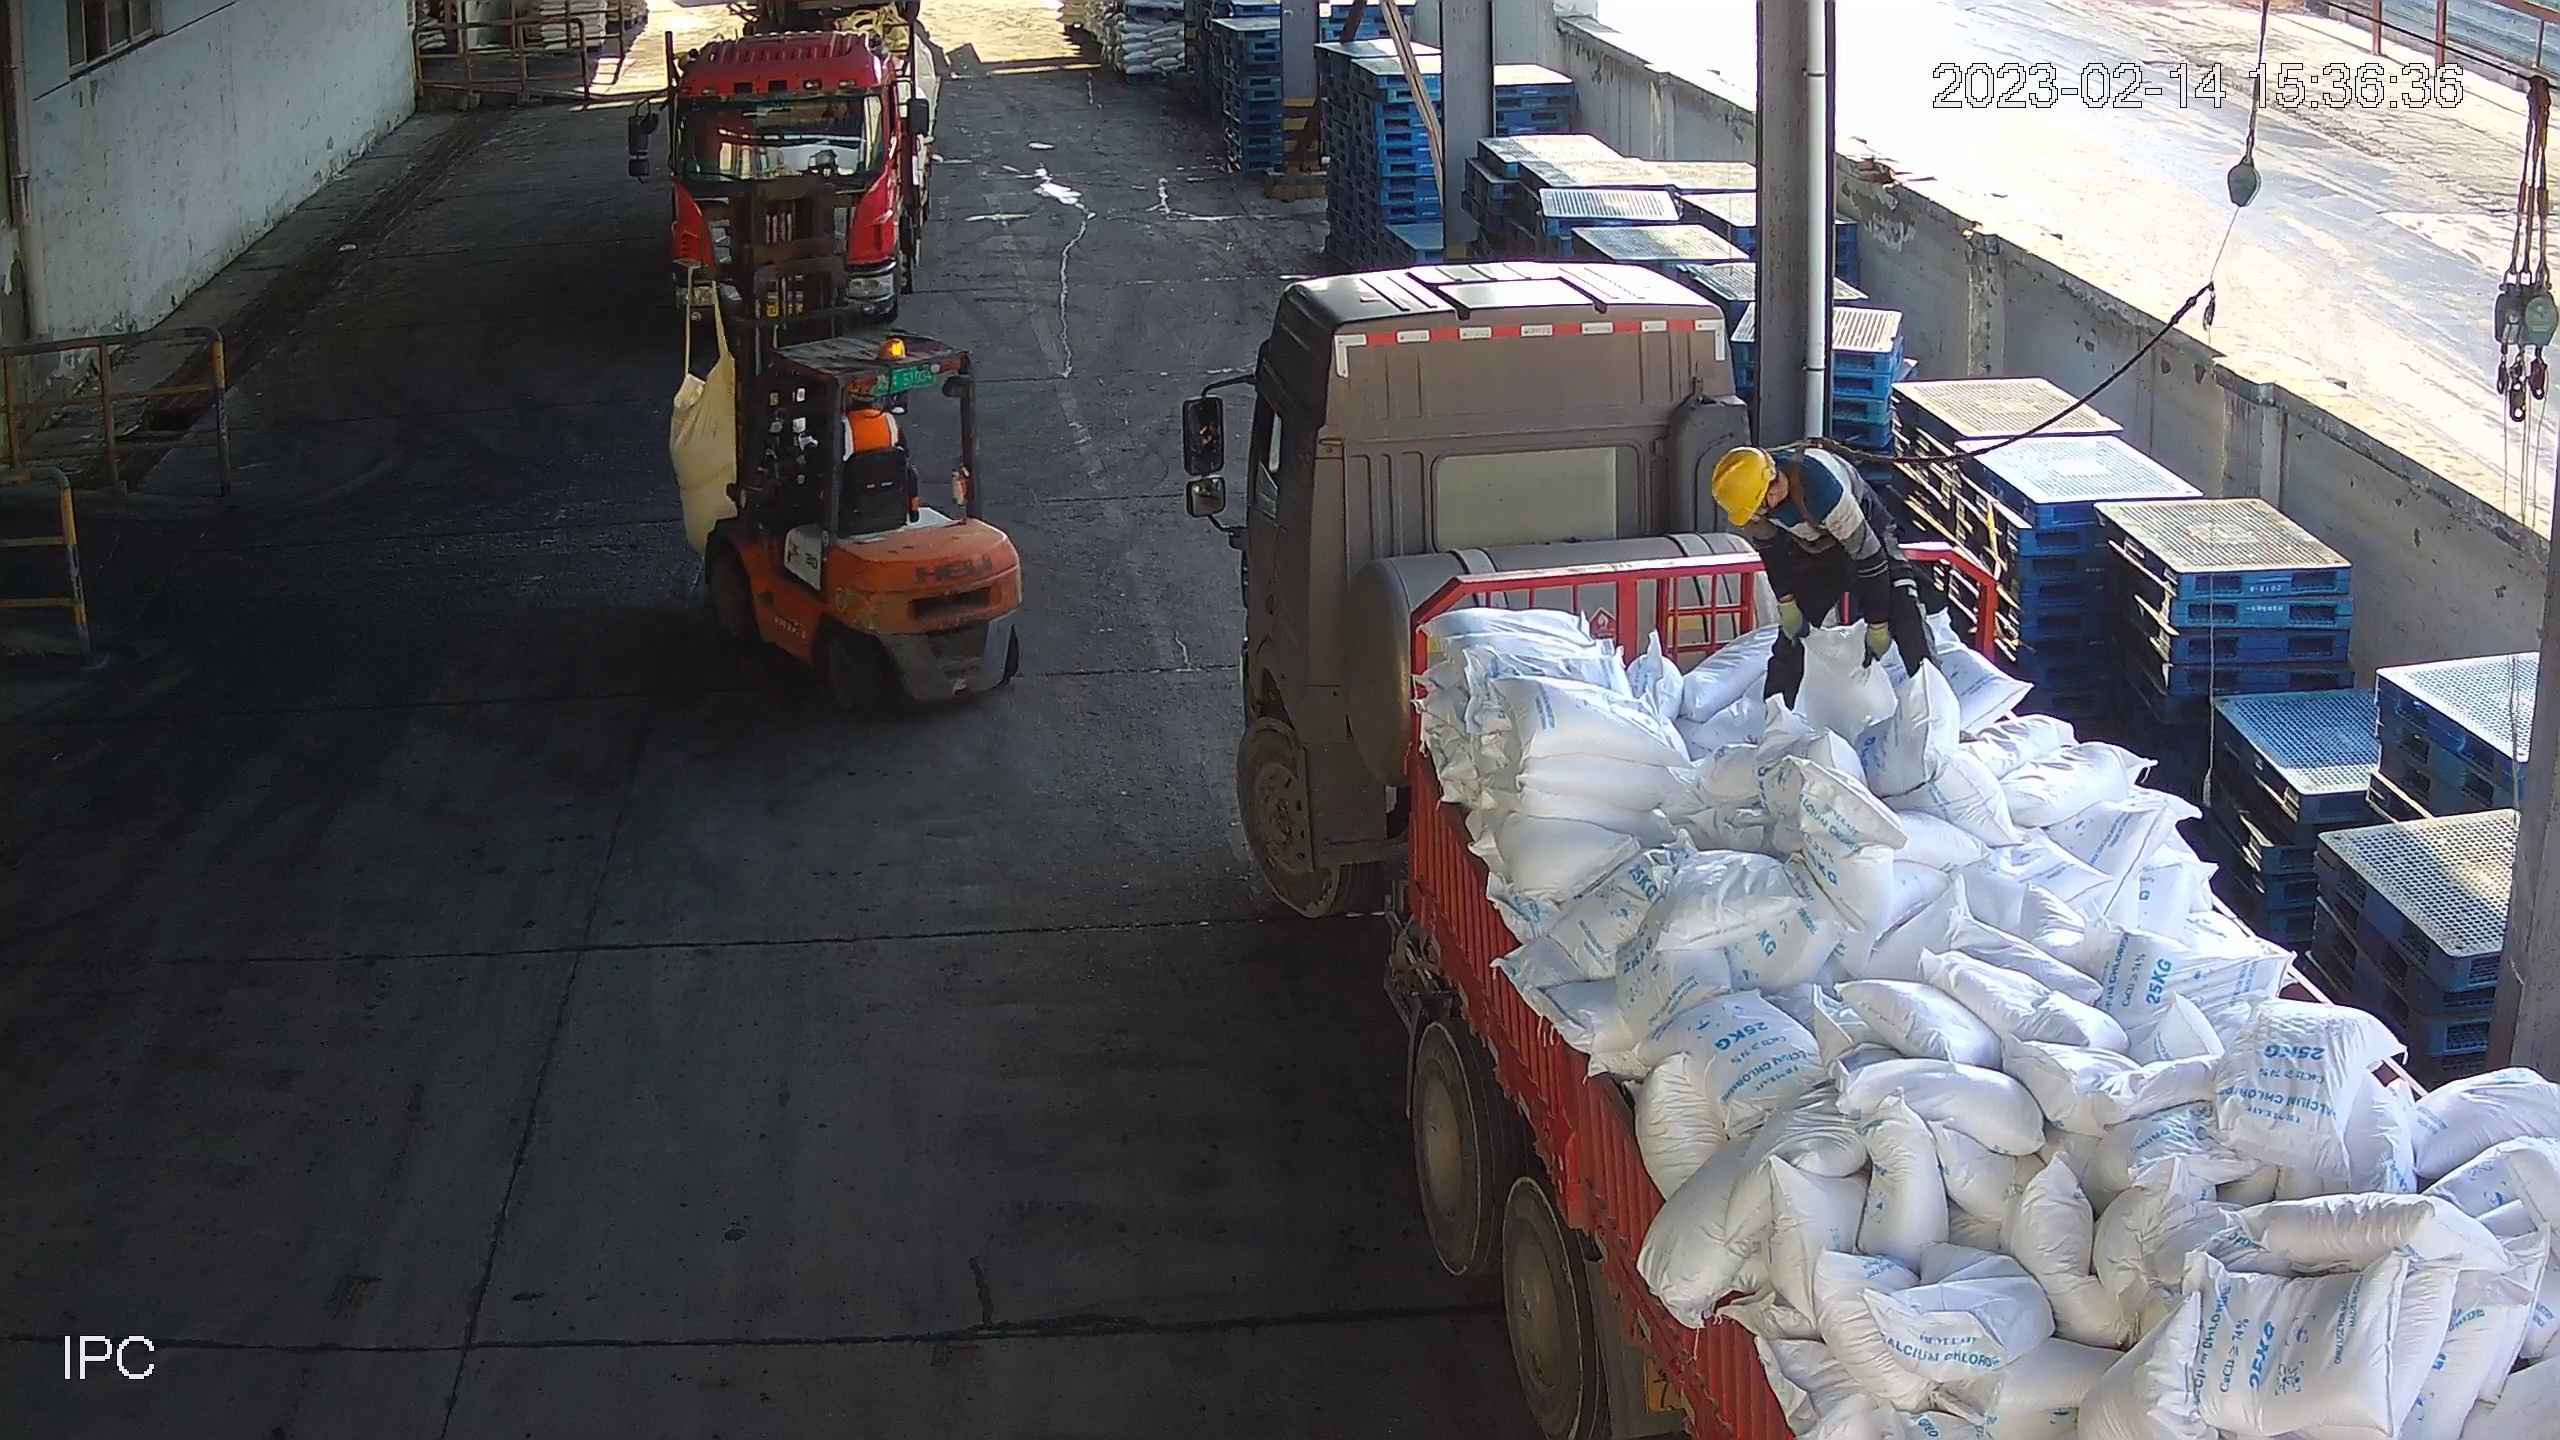belt: (1785, 429, 1864, 519)
head: (1709, 438, 1859, 567)
helmet: (1704, 442, 1787, 518)
people: (1698, 425, 1951, 697)
truck: (1188, 267, 2560, 1440), (635, 1, 973, 320)
